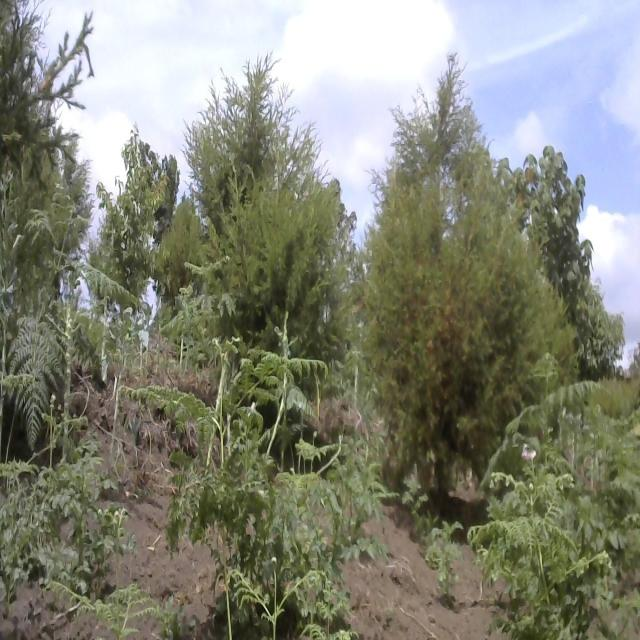Lemon Myrtle: (90, 114, 173, 342)
cedrus: (374, 75, 529, 483), (198, 73, 356, 405)
other: (502, 136, 622, 372)
